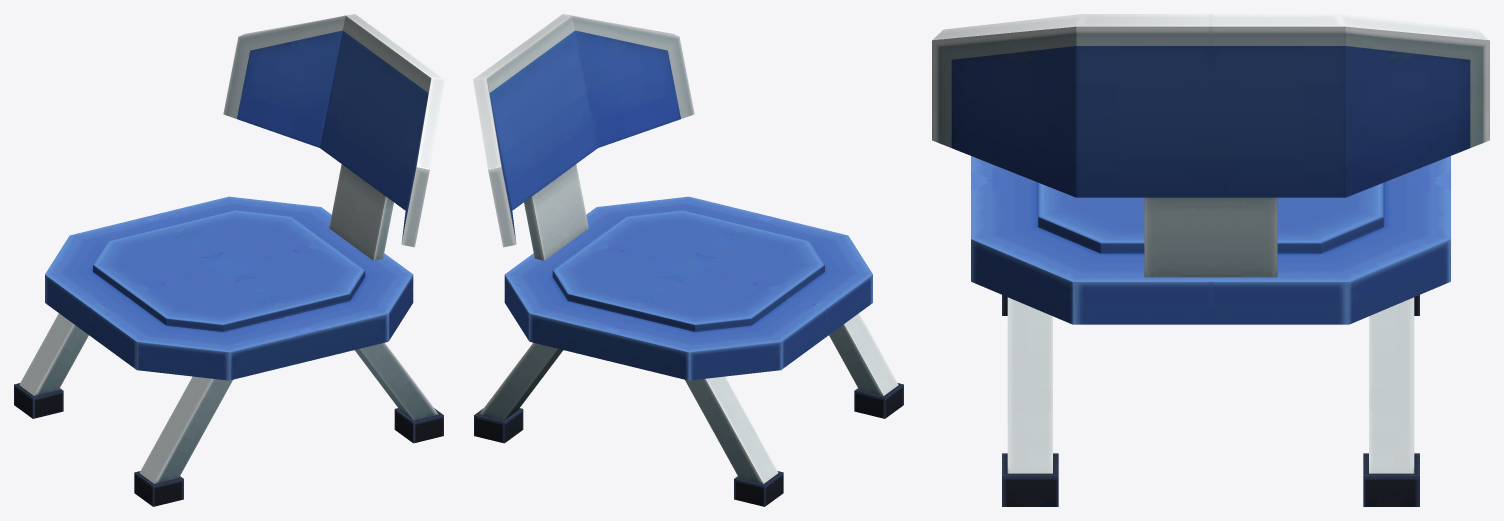
The model's file is my_millenniumlounge_01_chair_02.glb.
3 views of the same model, side by side, from view 1: azimuth 30°, elevation 25°; view 2: azimuth 150°, elevation 25°; view 3: azimuth 270°, elevation 25° (orthographic). The views are drawn at different scales.
Visible parts, largest first — view 1: my_millenniumlounge_01_chair_02; view 2: my_millenniumlounge_01_chair_02; view 3: my_millenniumlounge_01_chair_02.
Boxes of the visible parts, x1,y1,x2,y2 form: my_millenniumlounge_01_chair_02: (14, 14, 444, 506); my_millenniumlounge_01_chair_02: (473, 14, 903, 506); my_millenniumlounge_01_chair_02: (932, 14, 1489, 506).
Bounding box in the file's own units: 0.00433 × 0.00437 × 0.00439.
Materials: 1 (1 with a texture image).
